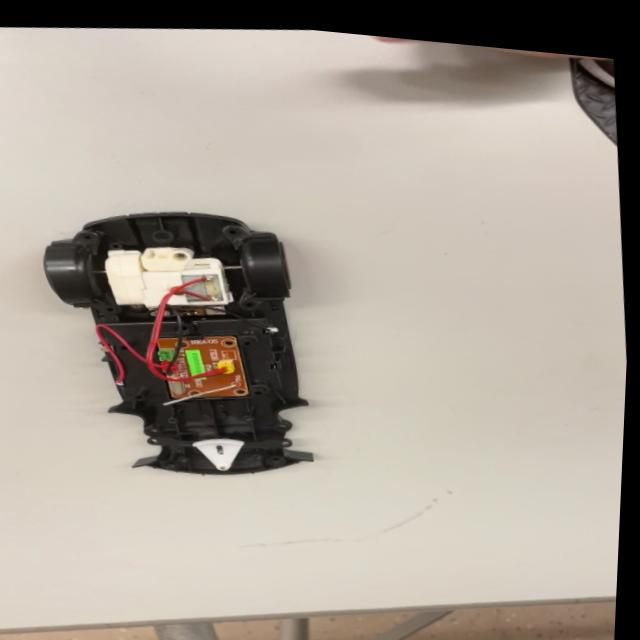Chassis: (43, 185, 346, 501)
